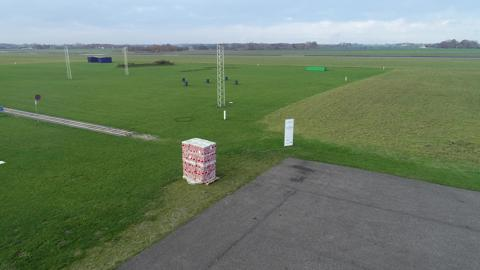RockwoolPallet: (182, 137, 217, 185)
